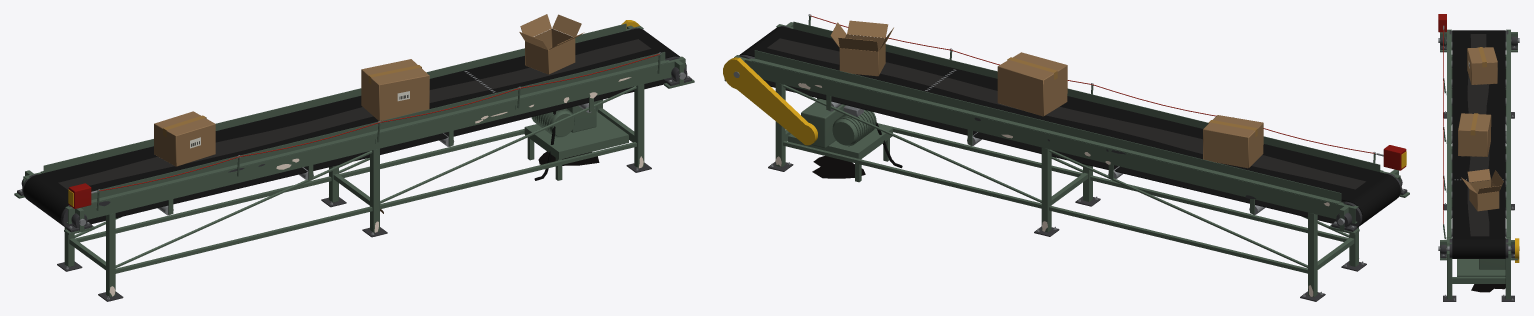
File: conveyor.glb
The picture shows the model from 3 angles, left to right: view 1: azimuth 30°, elevation 25°; view 2: azimuth 150°, elevation 25°; view 3: azimuth 270°, elevation 25°; orthographic projection. The views are drawn at different scales.
Parts seen in each view (by area): view 1: teil, teil.001, teil.013, teil.002, teil.004, teil.010, teil.003, teil.011; view 2: teil, teil.001, teil.013, teil.002, teil.009, teil.004, teil.012, teil.010, teil.003, teil.011; view 3: teil.001, teil, teil.013, teil.002, teil.004, teil.003, teil.012, teil.015, teil.010, teil.011, teil.009.
Boxes of the visible parts, x1,y1,x2,y2 form: teil: (14,23,694,297); teil.001: (23,28,680,227); teil.013: (154,14,584,166); teil.002: (58,39,651,189); teil.004: (17,27,691,301); teil.010: (99,54,659,191); teil.003: (19,52,689,299); teil.011: (68,183,91,208); teil: (724,15,1409,297); teil.001: (739,26,1400,227); teil.013: (830,20,1263,168); teil.002: (767,38,1365,189); teil.009: (723,57,1406,168); teil.004: (739,26,1407,301); teil.012: (812,156,865,178); teil.010: (810,15,1374,153); teil.003: (733,14,1404,296); teil.011: (1383,145,1406,170); teil.001: (1452,30,1505,258); teil: (1440,29,1517,299); teil.013: (1458,47,1503,211); teil.002: (1467,34,1489,236); teil.004: (1440,30,1517,301); teil.003: (1438,25,1519,300); teil.012: (1471,284,1505,292); teil.015: (1470,47,1486,135); teil.010: (1443,30,1443,224); teil.011: (1438,14,1446,32); teil.009: (1515,238,1519,262).
Bounding box in the file's own units: 5.81 × 1.24 × 0.92.
